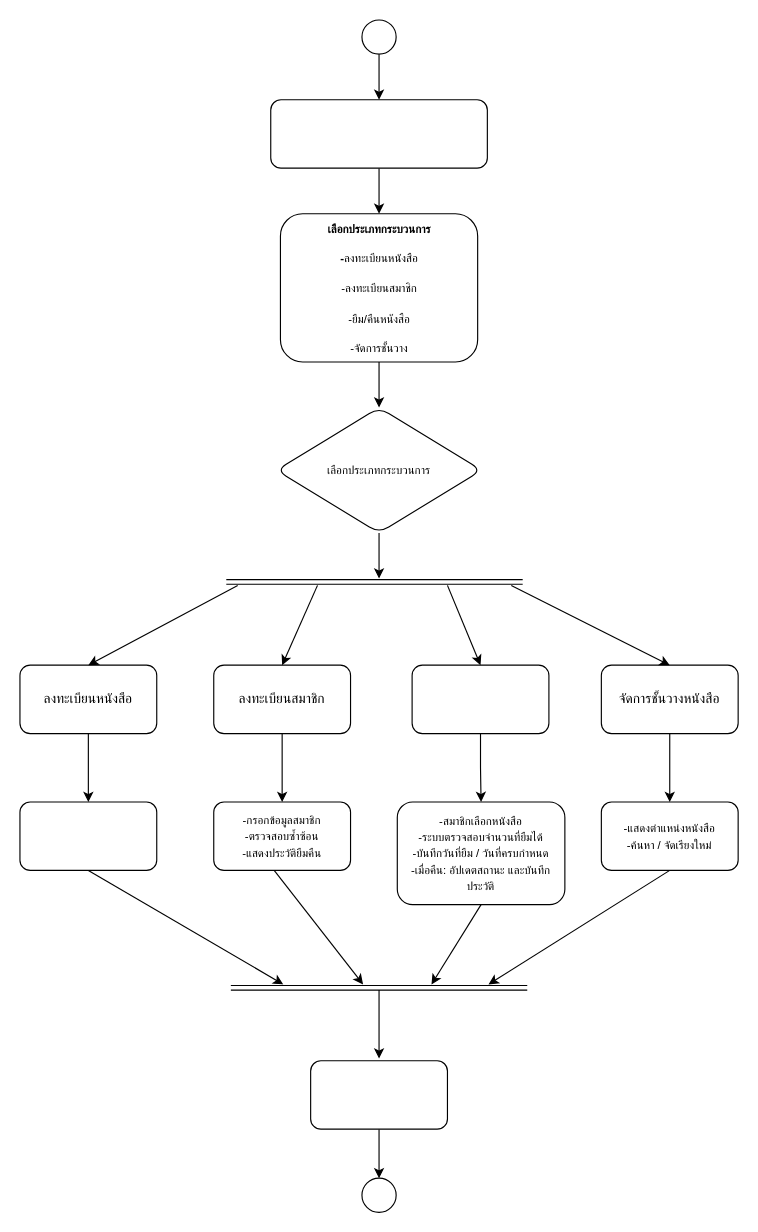
Image size: 758x1232. Some labels were removed from this diagram. Here are the shapes that lost their labels. From the top down, the centre of each, then its label:
point (378, 133): วิเคราะห์และเก็บข้อมูลความต้องการจากเจ้าหน้าที่และสมาชิก
point (480, 699): ยืมและคืนหนังสือ
point (88, 835): -ป้อนข้อมูลหนังสือใหม่ -ตรวจสอบ/แก้ไข/ลบข้อมูล
point (378, 1094): บันทึกลงระบบ
